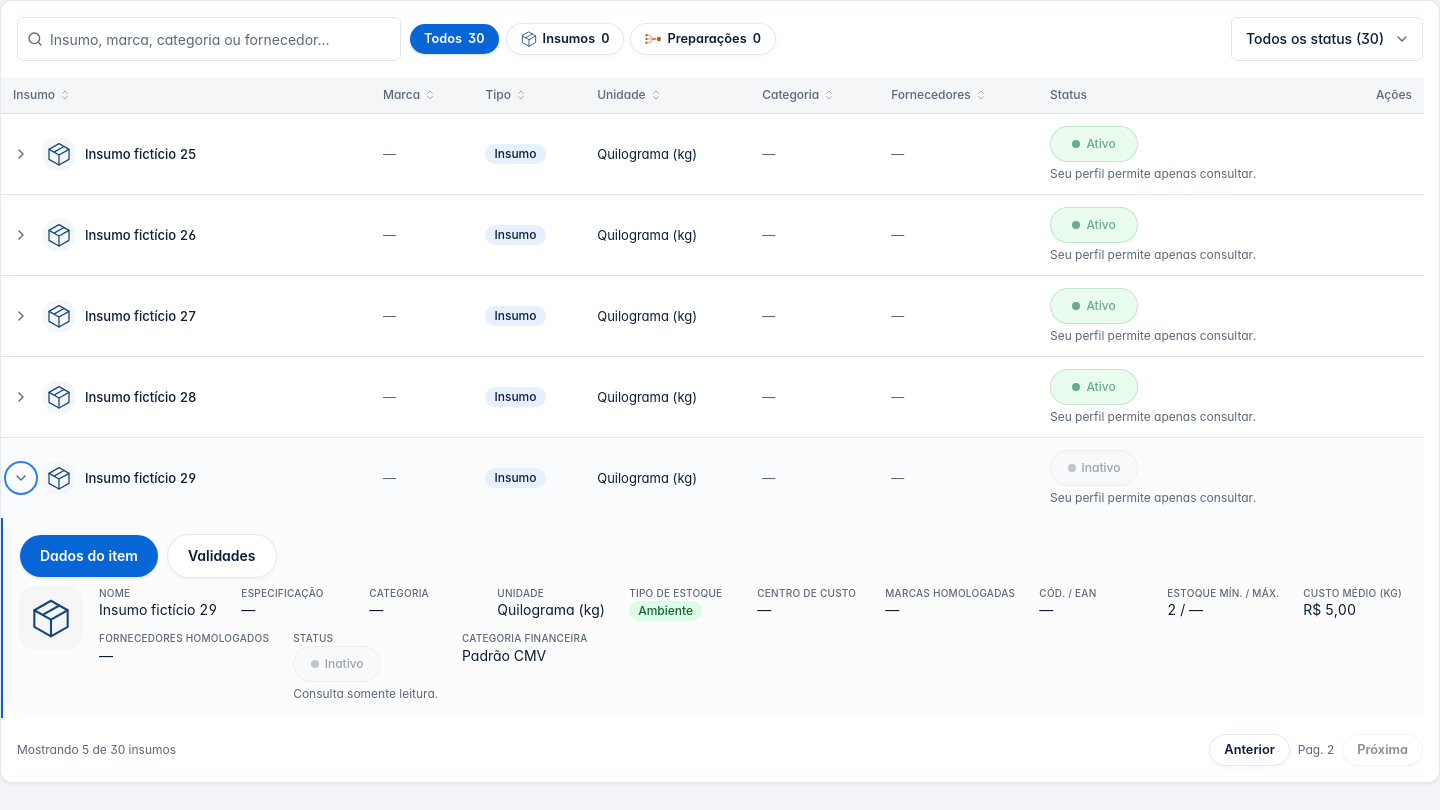
Test: links de entidades existentes abrem consulta › insumo inativo na página 2 fica visível e expandido; alterar busca conserva filtro normal
Expected: the text "Pag. 2" is shown, [1298,742,1334,758]
Type "Insumo fictício 0" into the field named "Buscar insumo, marca, categoria ou fornecedor" at (209, 39), box [17,17,401,61]
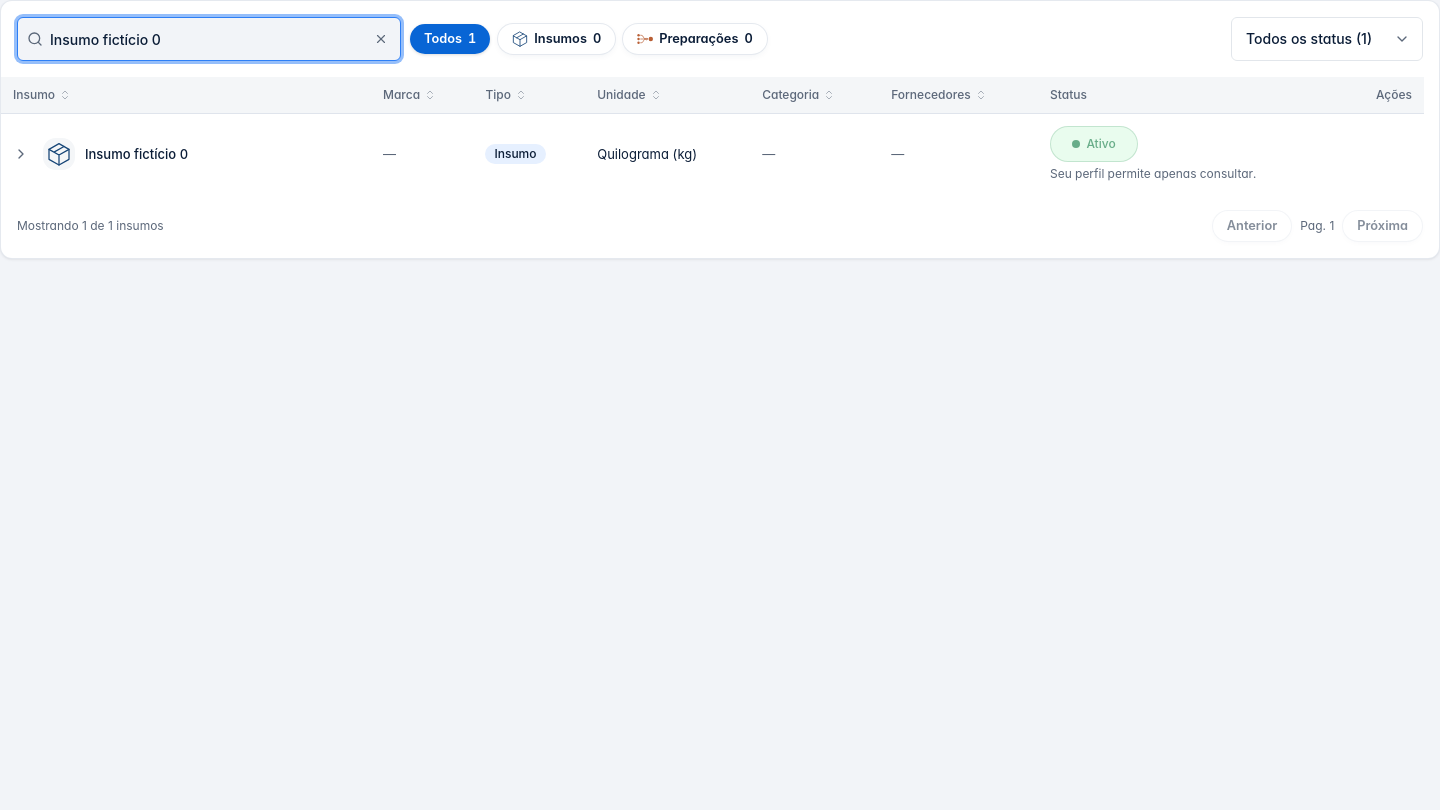
Expected: the text "Pag. 1" is shown, [1300,218,1334,234]
